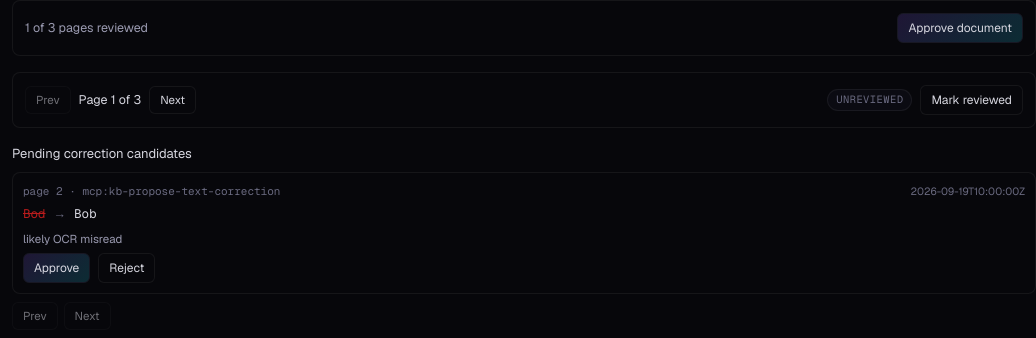
Scenario: ReviewTab › disables Next on the last page
Click the button with test id "kb-review-page-next" at (173, 100), box [149,86,196,114]
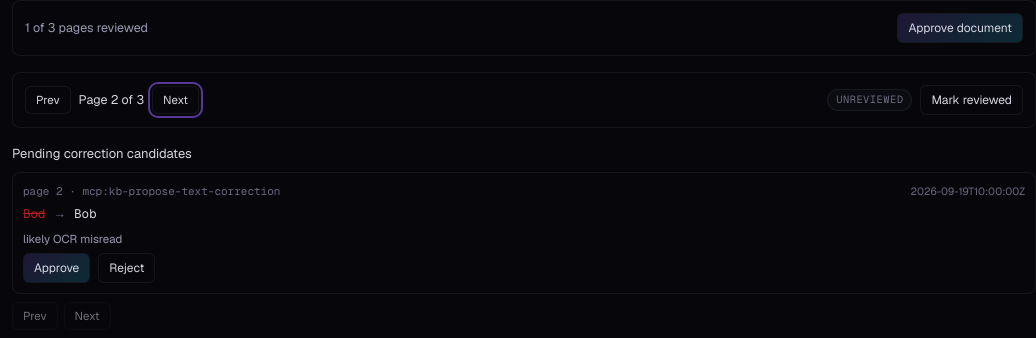
Click the button with test id "kb-review-page-next" at (176, 100), box [152,86,199,114]
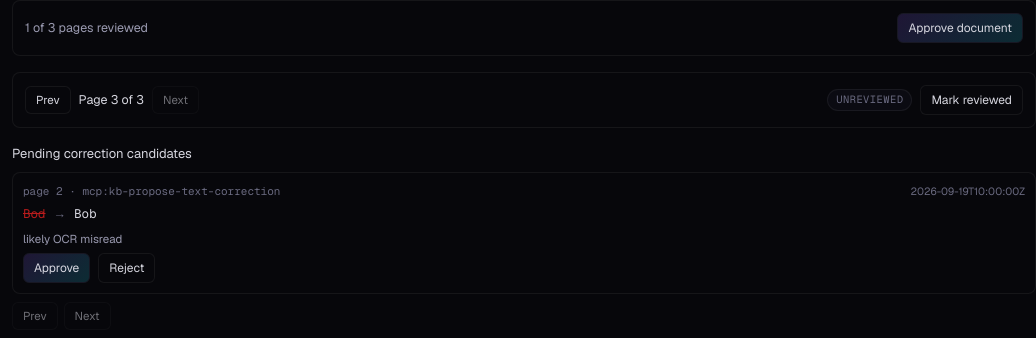
expect the text with test id "kb-review-page-number" reads "Page 3 of 3": met, box [79,91,144,109]
expect the button with test id "kb-review-page-next" is disabled: met, box [152,86,199,114]
